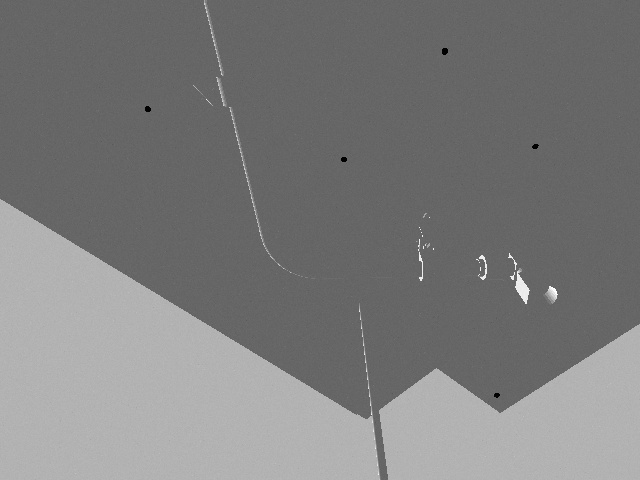hole: (530, 141, 541, 152), (143, 104, 153, 114), (339, 155, 349, 165), (440, 47, 450, 57), (492, 390, 502, 400)
